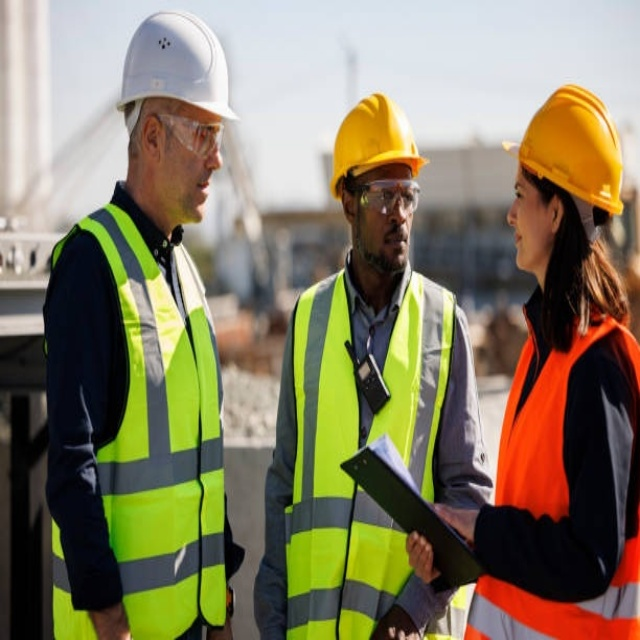Gafas: (141, 112, 223, 159), (352, 180, 421, 217)
Mascara: (574, 192, 604, 244)
Sin_gafas: (512, 177, 533, 213)
Sin_guantes: (403, 524, 442, 584), (430, 497, 479, 543)
Sin_mascara: (183, 176, 215, 220), (374, 229, 410, 265), (509, 221, 535, 267)
